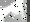person: (1, 1, 28, 22)
